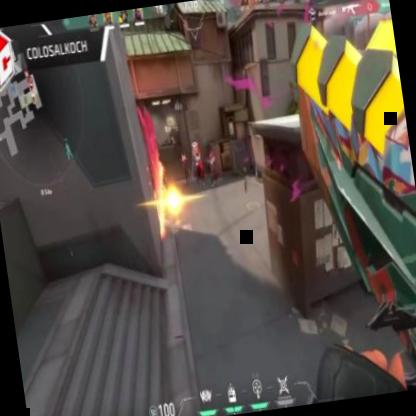enemy: (188, 136, 205, 186), (204, 148, 219, 188), (177, 150, 190, 186)
enemy_head: (190, 140, 198, 150), (209, 150, 212, 158), (180, 151, 184, 155)
